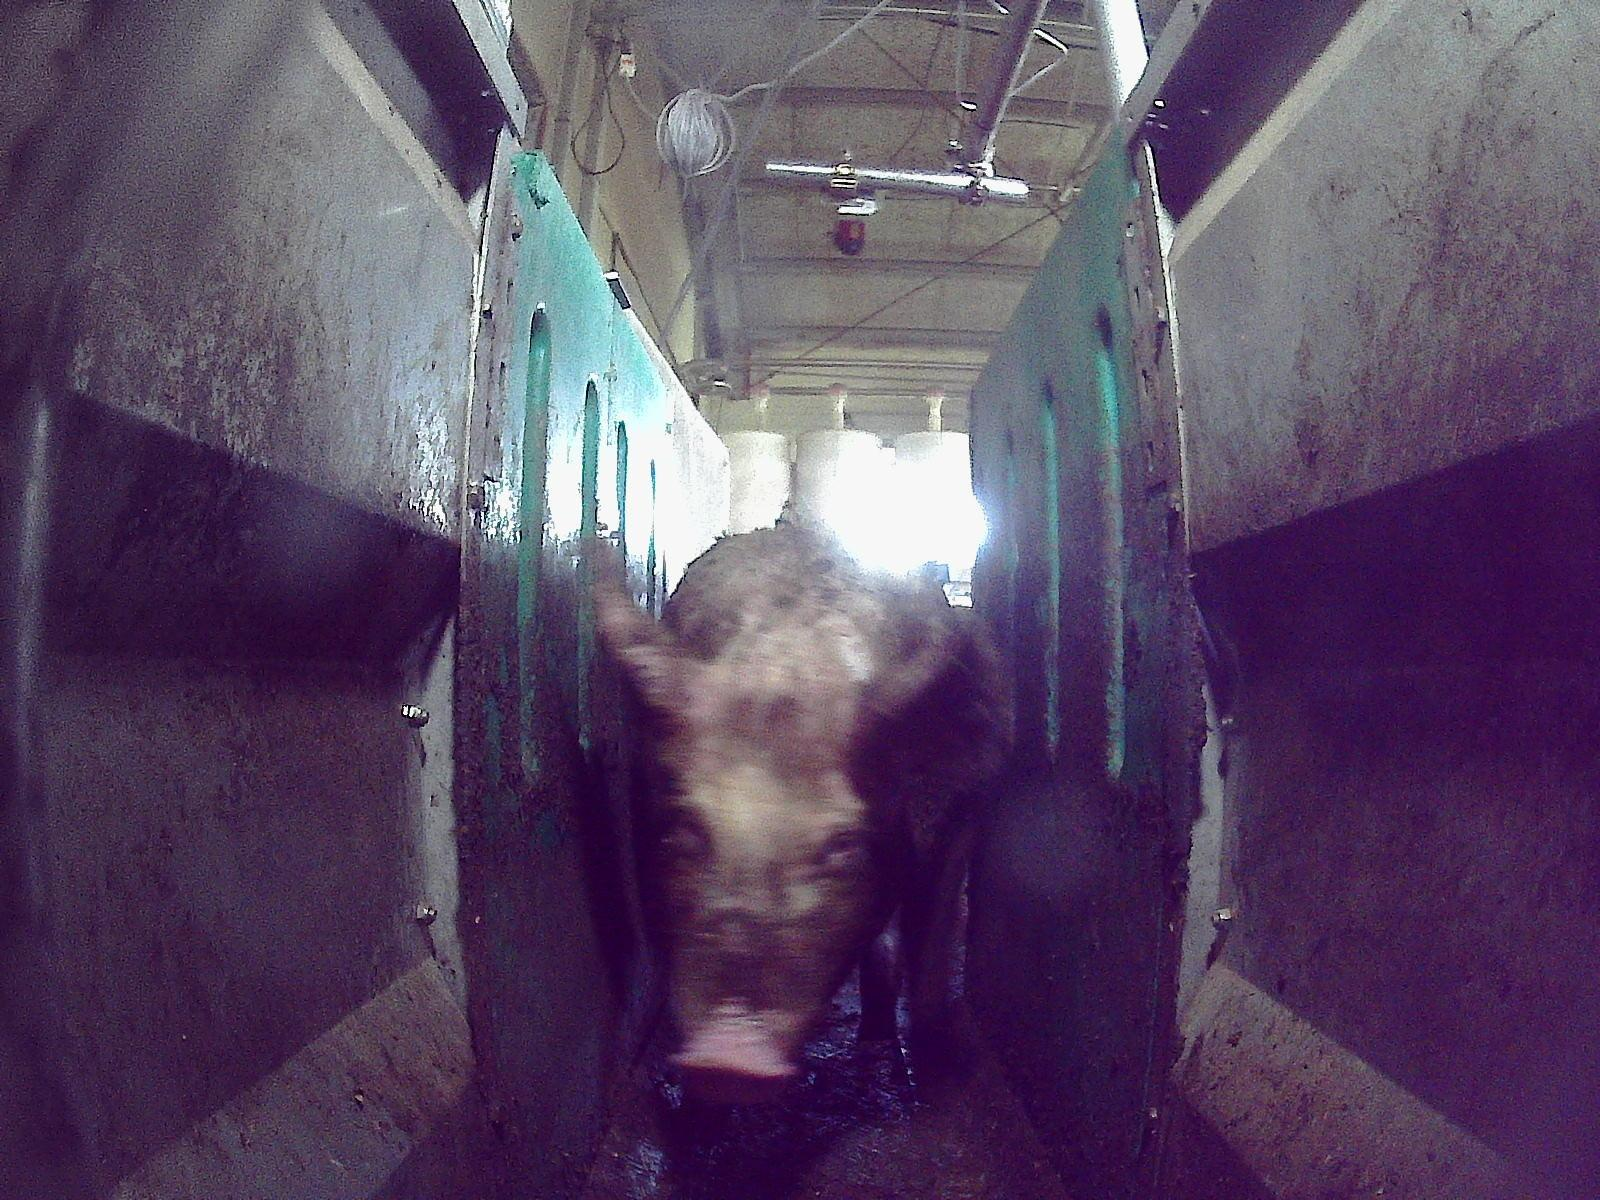Face: (646, 691, 890, 1102)
